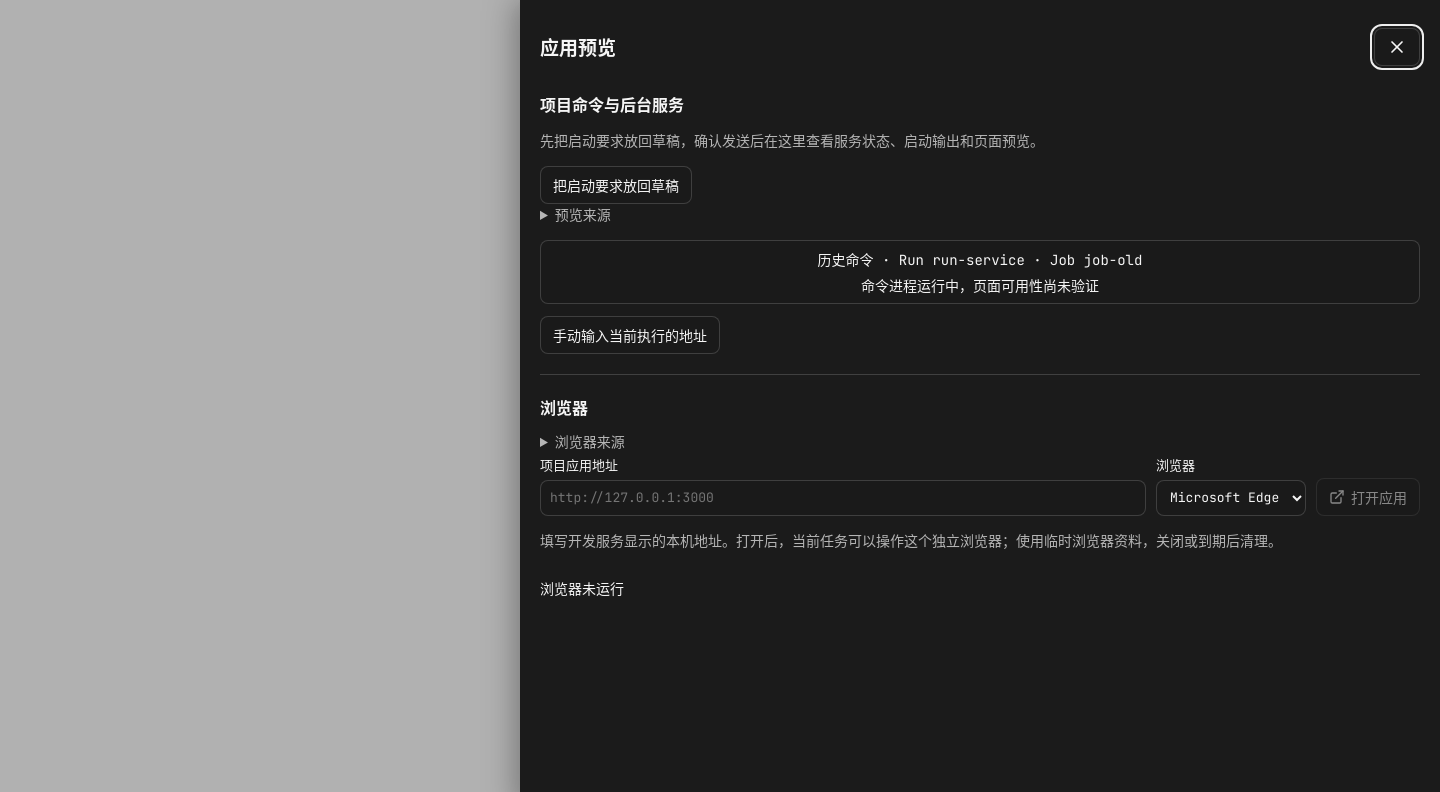
Scenario: does not borrow the current Run's browser authority for a terminal source Run
Click the button "历史命令 · Run run-service · Job job-old 命令进程运行中，页面可用性尚未验证": coordinates (846, 260) x1=540 y1=240 x2=1420 y2=304
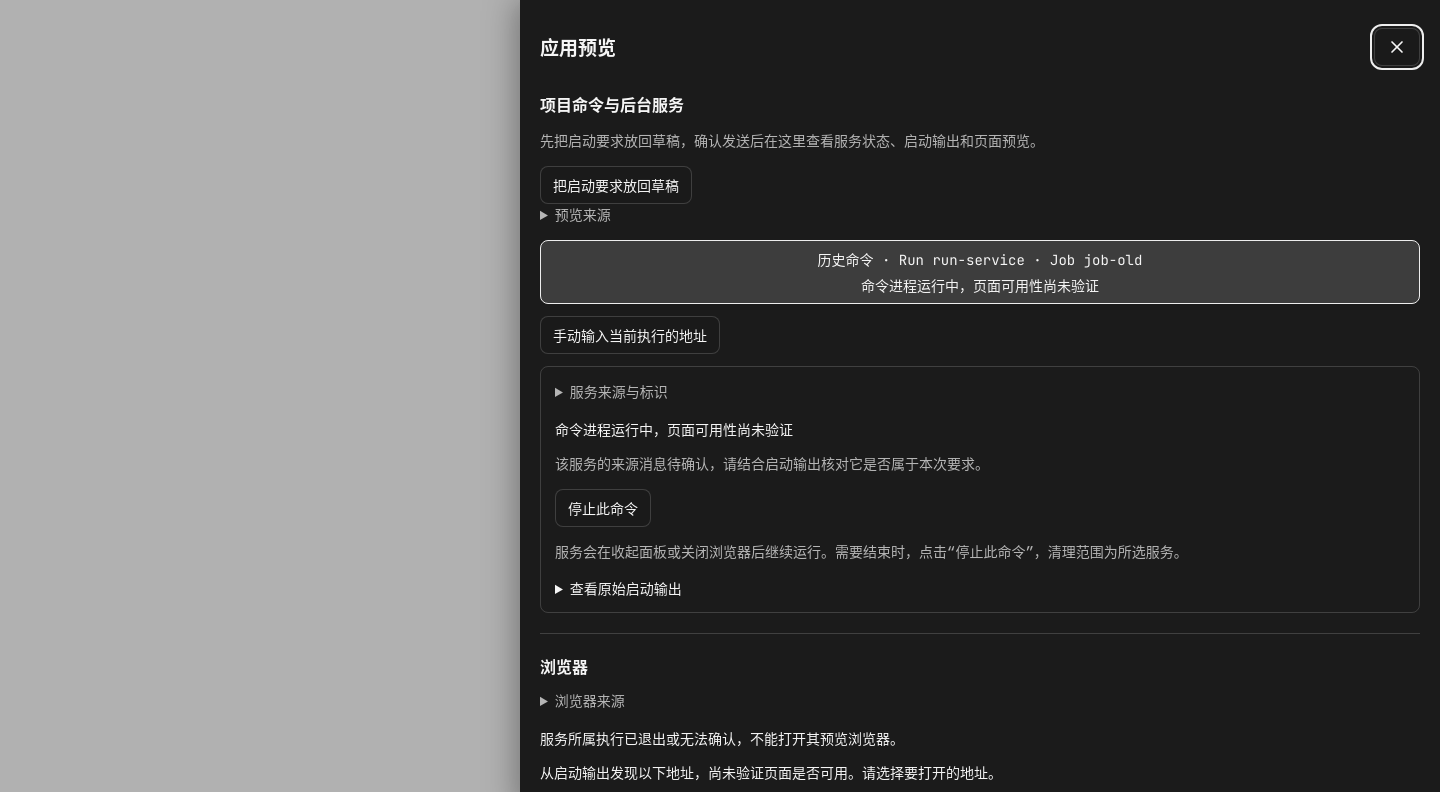
Now the text "服务所属执行已退出或无法确认，不能打开其预览浏览器。" is shown, box x1=540 y1=730 x2=904 y2=748
